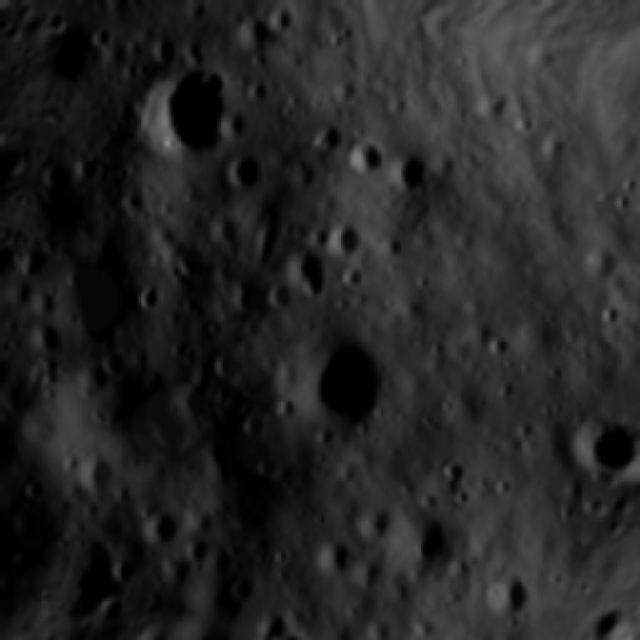crater: (270, 308, 415, 454), (122, 38, 252, 177), (260, 217, 348, 306), (383, 494, 466, 577), (210, 252, 298, 328), (65, 431, 133, 509), (378, 129, 444, 208), (471, 559, 538, 626), (212, 142, 274, 205), (135, 495, 194, 560), (335, 124, 390, 185), (306, 526, 362, 585), (203, 341, 254, 394), (300, 114, 348, 168), (230, 402, 278, 452), (222, 565, 267, 610), (130, 268, 173, 315), (174, 528, 218, 572), (256, 0, 302, 40), (476, 324, 518, 365), (102, 548, 143, 589), (16, 469, 50, 506), (0, 448, 14, 530), (148, 0, 206, 2)
